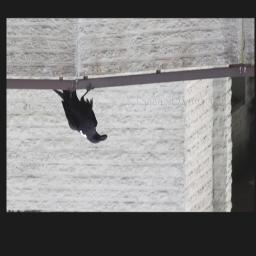Crow: (51, 77, 109, 145)
